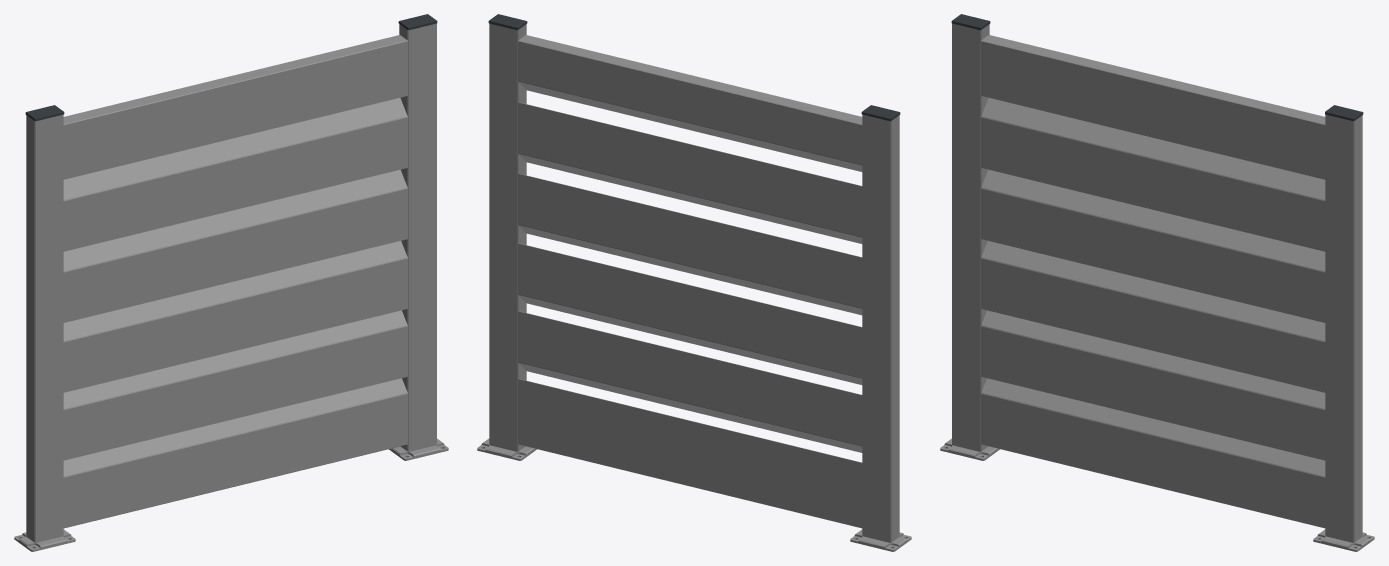
3 views of the same model, side by side, from view 1: azimuth 30°, elevation 25°; view 2: azimuth 150°, elevation 25°; view 3: azimuth 330°, elevation 25° (orthographic).
Visible parts, largest first — view 1: Rectangle070, Rectangle068, Rectangle069, base015, base014; view 2: Rectangle070, Rectangle068, Rectangle069, base015, base014; view 3: Rectangle070, Rectangle069, Rectangle068, base014, base015.
Boxes of the visible parts, <box> form: Rectangle070: <box>63,35,407,528</box>; Rectangle068: <box>26,114,63,542</box>; Rectangle069: <box>399,23,436,451</box>; base015: <box>14,529,75,551</box>; base014: <box>389,438,448,460</box>; Rectangle070: <box>518,35,862,528</box>; Rectangle068: <box>862,114,899,542</box>; Rectangle069: <box>489,23,526,451</box>; base015: <box>850,529,911,551</box>; base014: <box>477,438,536,460</box>; Rectangle070: <box>981,35,1325,528</box>; Rectangle069: <box>1325,114,1362,542</box>; Rectangle068: <box>952,23,989,451</box>; base014: <box>1313,529,1374,551</box>; base015: <box>940,438,999,460</box>.
Size of the model in its own units: 1171 by 1147 by 90.02.
2 materials, 1 textured.
